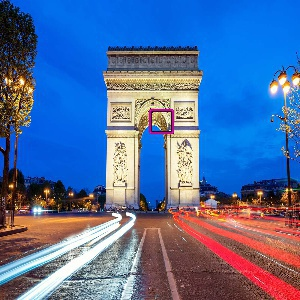square: (148, 108, 175, 135)
